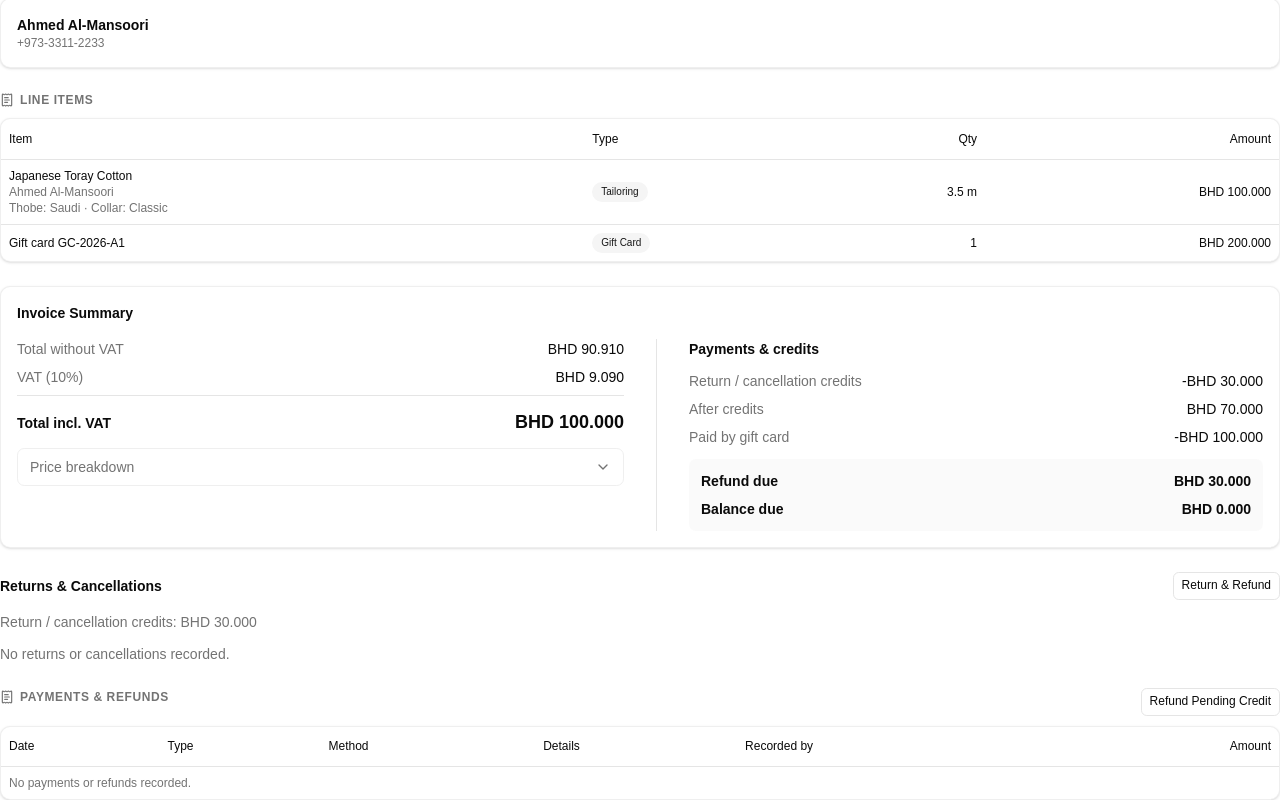
Scenario: InvoiceDetailPage › places pending gift-card refunds in payment history even without external payment entries
The image size is (1280, 800).
(page scrolled)
Click the button "Refund Pending Credit" at (1210, 702), box x1=1141 y1=688 x2=1279 y2=716
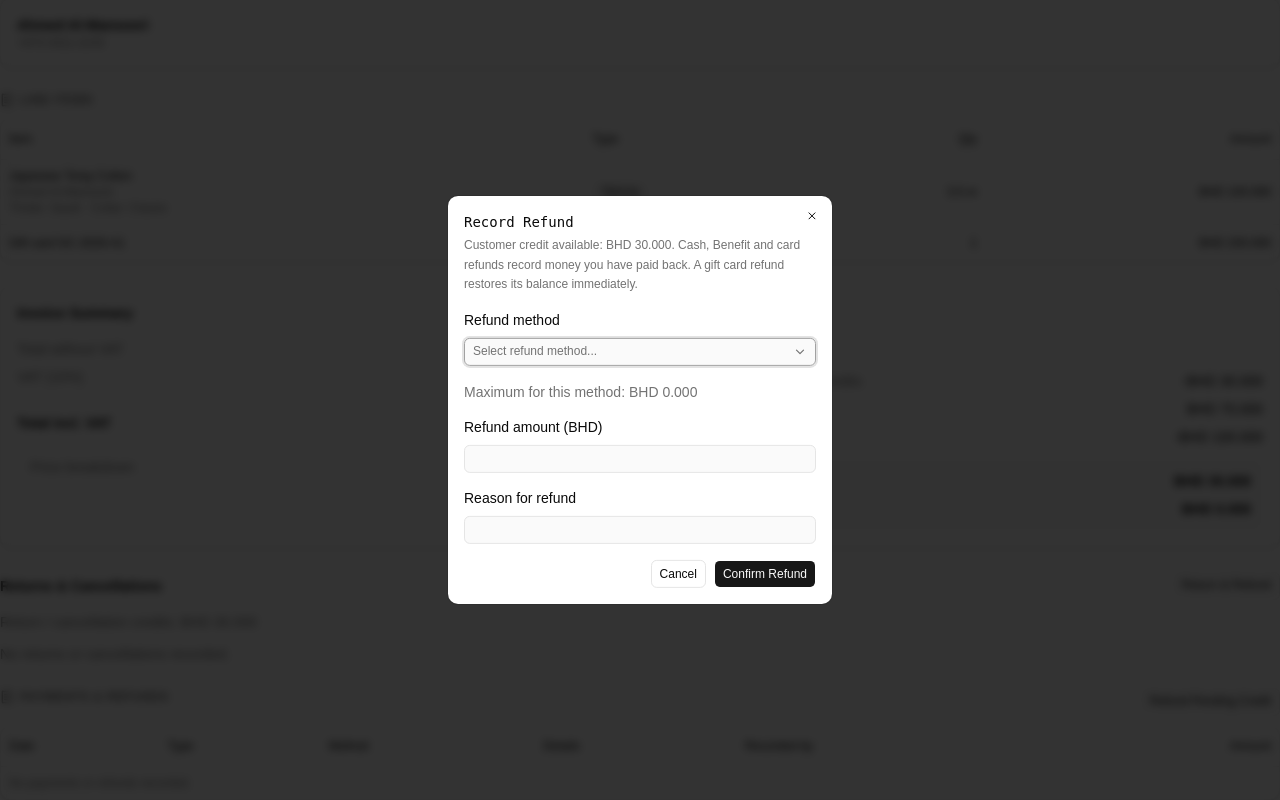
Now the dialog is shown, box x1=448 y1=196 x2=832 y2=604
Now the heading "Record Refund" is shown, box x1=464 y1=214 x2=574 y2=230
